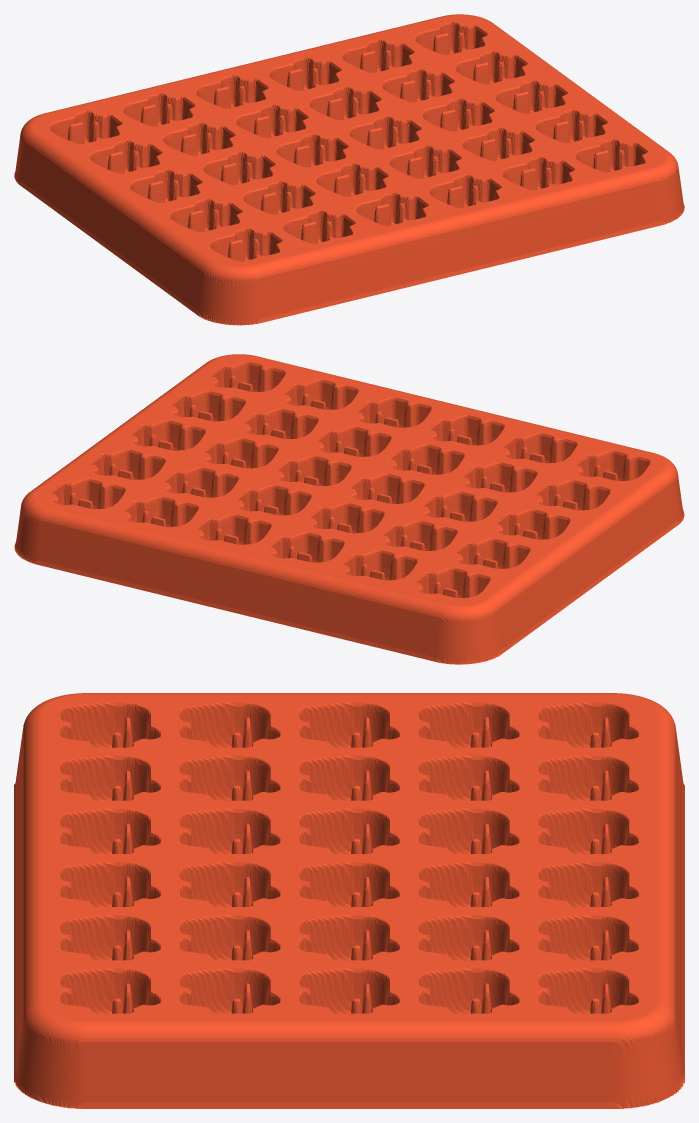
The model's file is mold.glb.
The picture shows the model from 3 angles, top to bottom: view 1: azimuth 30°, elevation 25°; view 2: azimuth 150°, elevation 25°; view 3: azimuth 270°, elevation 25°; orthographic projection. The views are drawn at different scales.
Visible parts, largest first — view 1: geometry_0; view 2: geometry_0; view 3: geometry_0.
Part boxes in pixels (bbox=[...]): geometry_0: bbox=[14, 14, 684, 325]; geometry_0: bbox=[14, 354, 684, 664]; geometry_0: bbox=[14, 693, 684, 1108].
Size of the model in its own units: 0.104 by 0.0105 by 0.0842.
